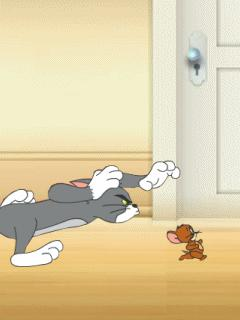jerry: (165, 223, 210, 263)
